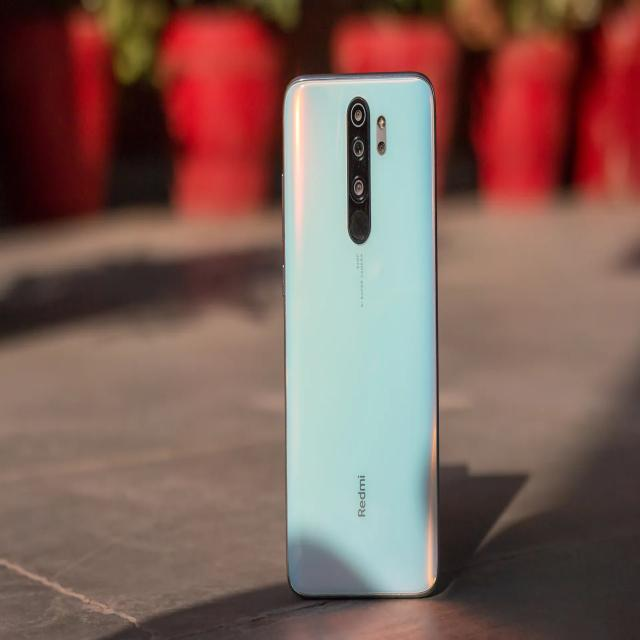Red Mi Note 8 Pro: (281, 72, 441, 602)
